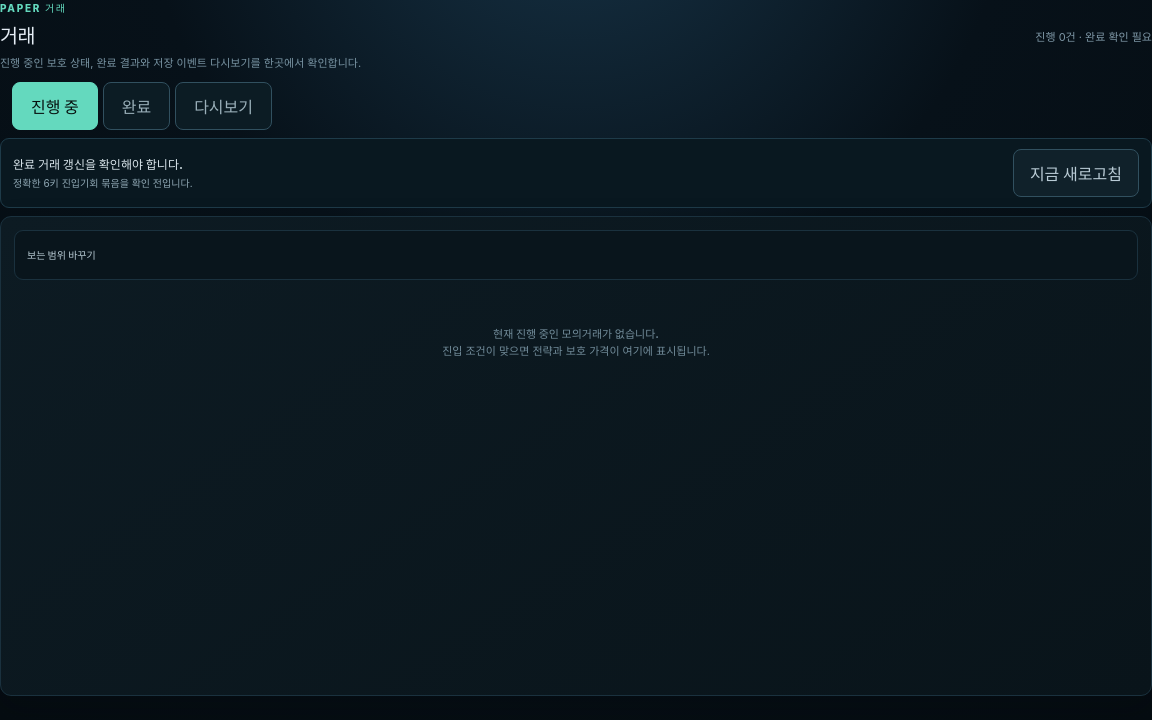
Test case: shows a truthful completed-trade error instead of a zero-row dashboard fallback
Check: the text "완료 거래 갱신을 확인해야 합니다." is shown, box x1=13 y1=155 x2=192 y2=172
What coordinates should you click on to do the following:
click the tab "완료"
I would click on:
 (136, 106)
Its box is x1=103 y1=82 x2=170 y2=130.
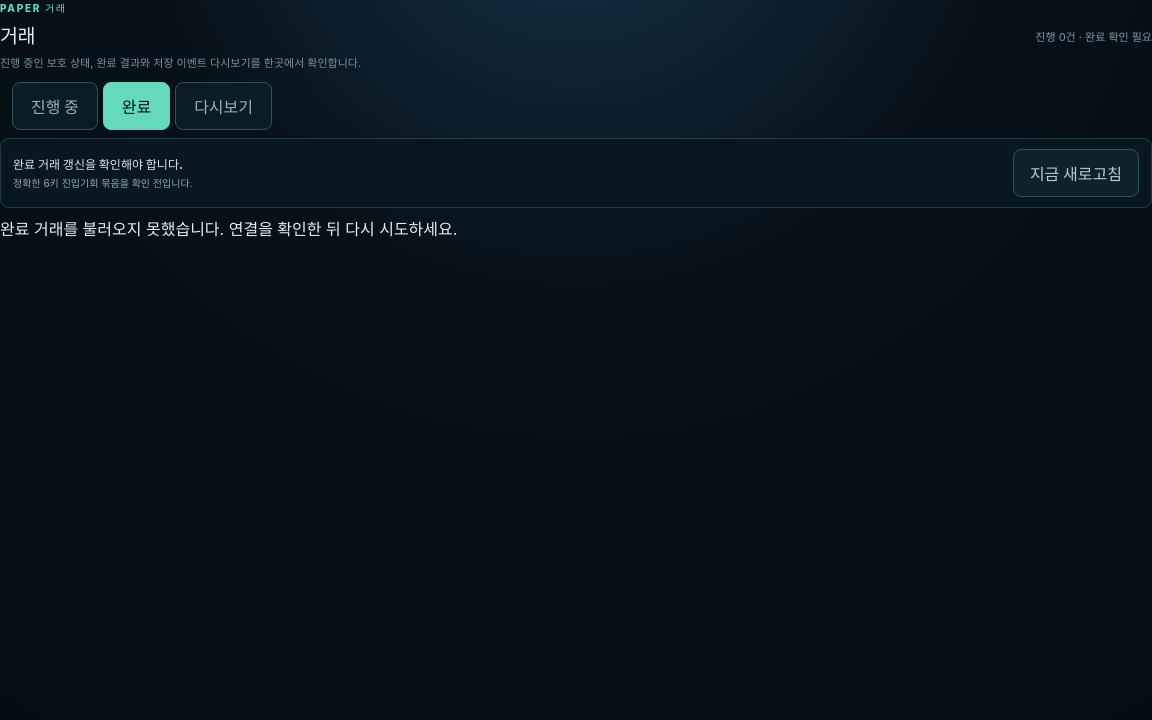
Check: the message shows "완료 거래를 불러오지 못했습니다", box x1=0 y1=218 x2=457 y2=238
